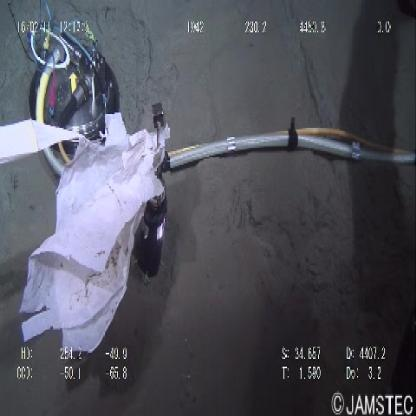Rov: (20, 20, 124, 129)
Rác: (1, 116, 174, 354)
